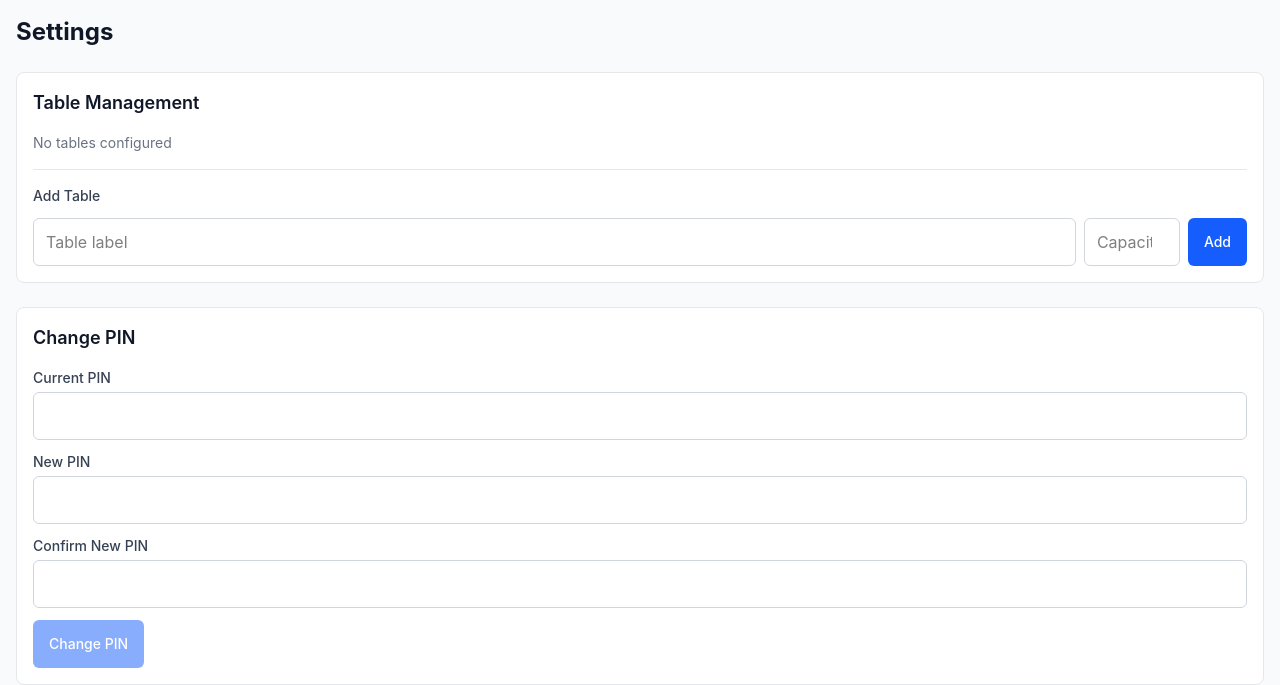
ManagerSettings › Table Management section › shows validation error for capacity below 1
Type "Table A" into the field with placeholder "Table label".
click(554, 242); type("Table A")  # box top-left (33, 218), bottom-right (1076, 266)
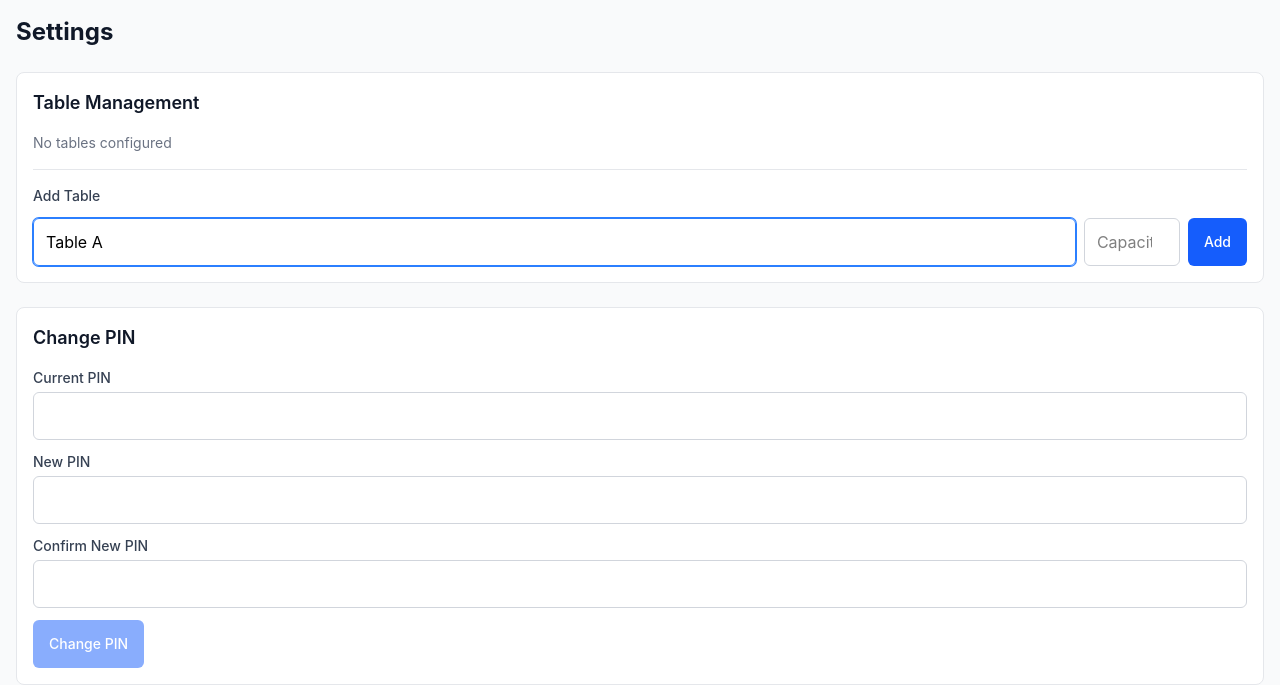
Type "0" into the number field with placeholder "Capacity".
click(1132, 242); type("0")  # box top-left (1084, 218), bottom-right (1180, 266)
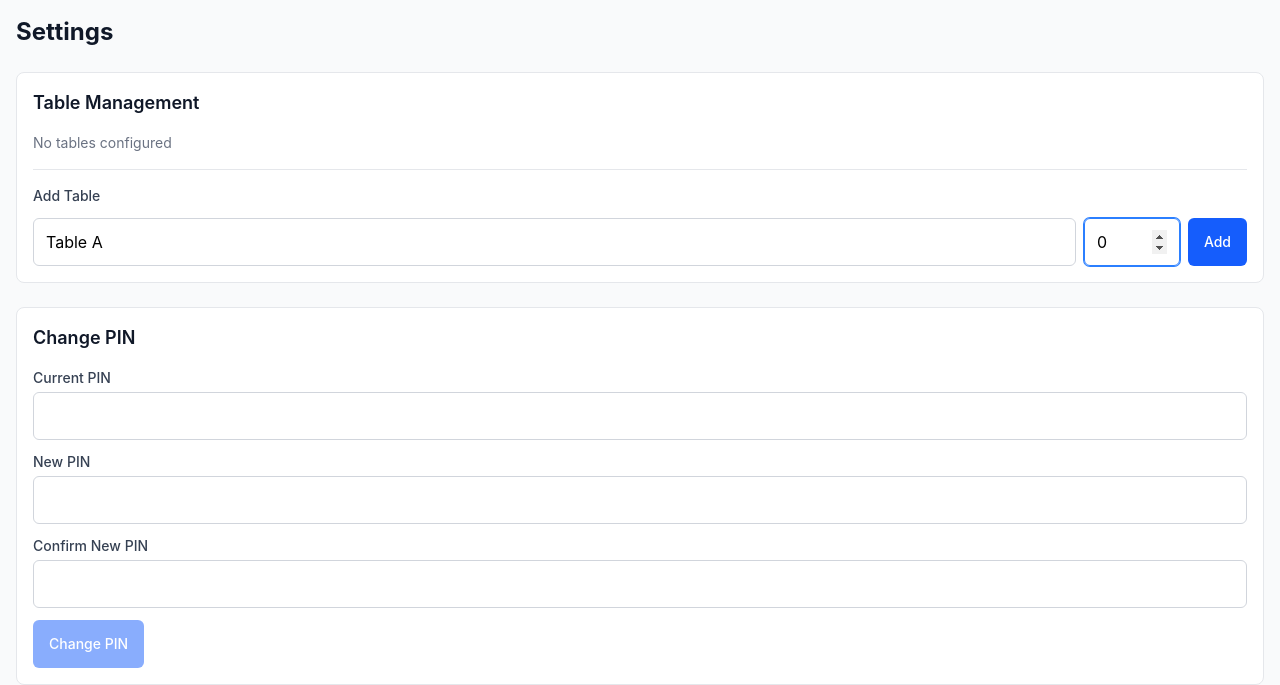
Submit the form "Add Table Add", box top-left (33, 169), bottom-right (1247, 266)
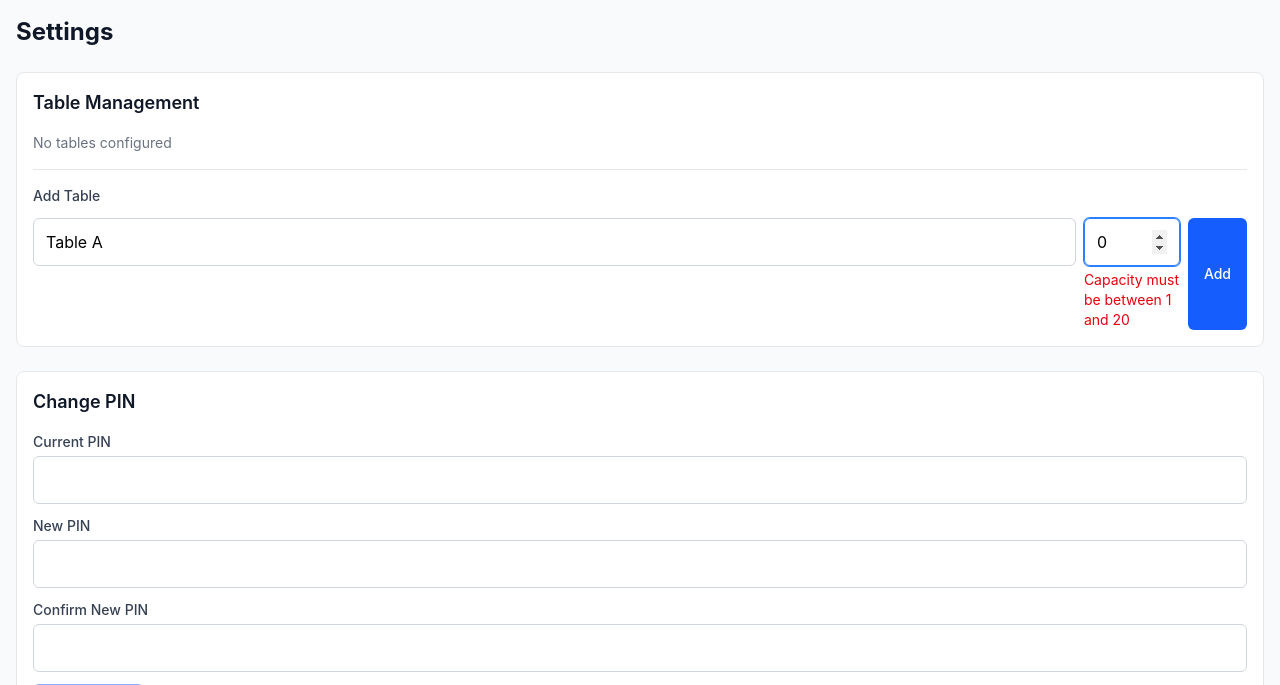
Result: the text "Capacity must be between 1 and 20" is shown at top-left (1084, 270), bottom-right (1180, 330)
